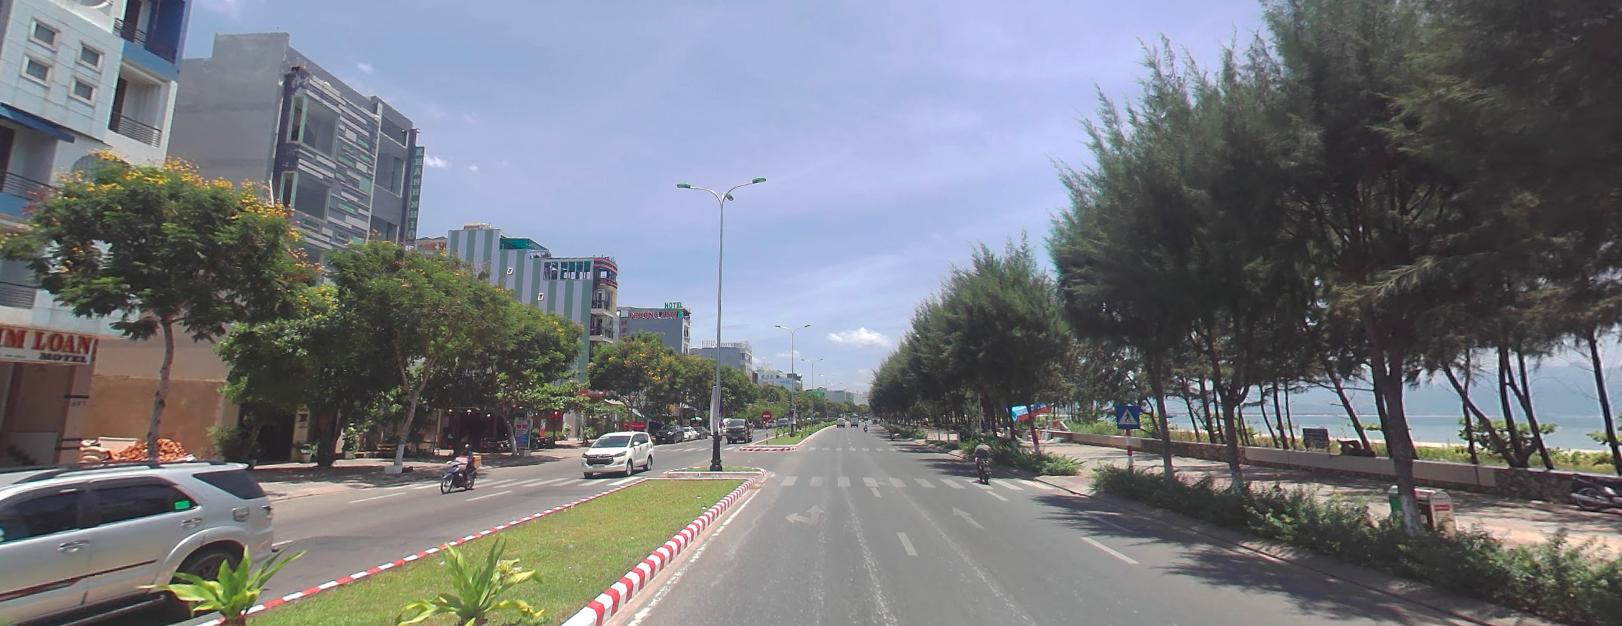Cam nguoc chieu: (760, 408, 771, 420)
